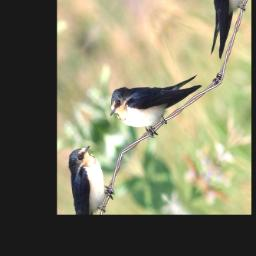Swallow: (100, 30, 207, 161)
